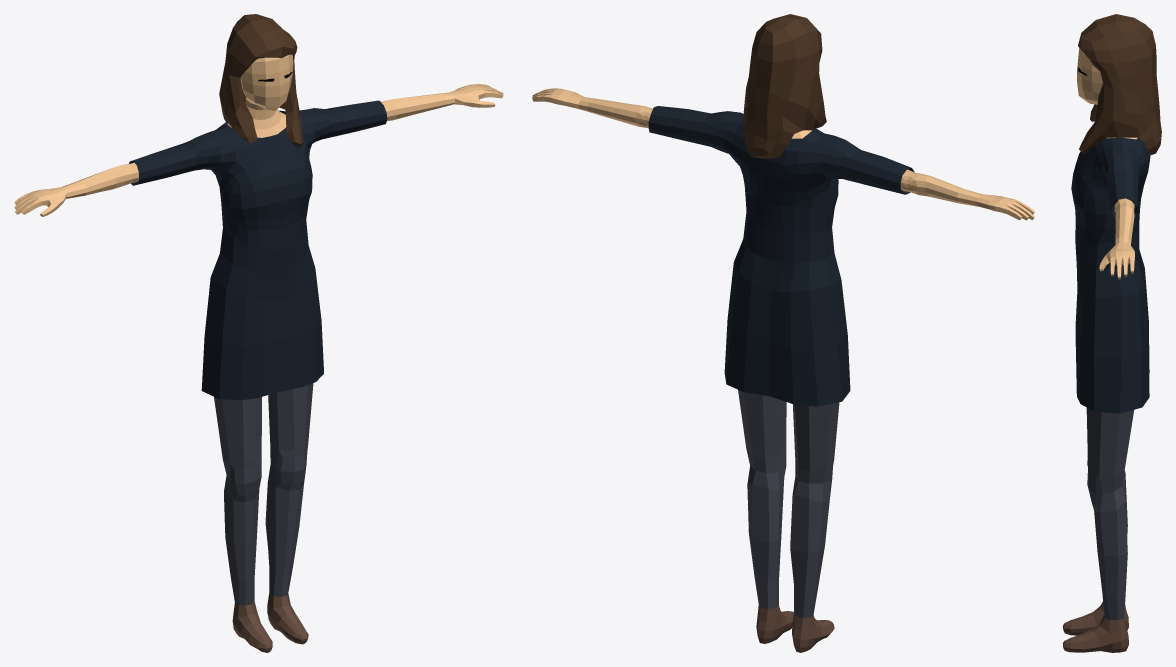
File: WomanCasual.obj
The picture shows the model from 3 angles, left to right: view 1: azimuth 30°, elevation 25°; view 2: azimuth 150°, elevation 25°; view 3: azimuth 270°, elevation 25°; orthographic projection. The views are drawn at different scales.
Parts seen in each view (by area): view 1: WomanCasual; view 2: WomanCasual; view 3: WomanCasual.
Part boxes in pixels (left/top/right/bottom): WomanCasual: left=14, top=14, right=503, bottom=652; WomanCasual: left=532, top=14, right=1034, bottom=652; WomanCasual: left=1063, top=14, right=1161, bottom=652.
Size of the model in its own units: 1.42 by 1.7 by 0.2447.
Materials: 1 (1 with a texture image).
